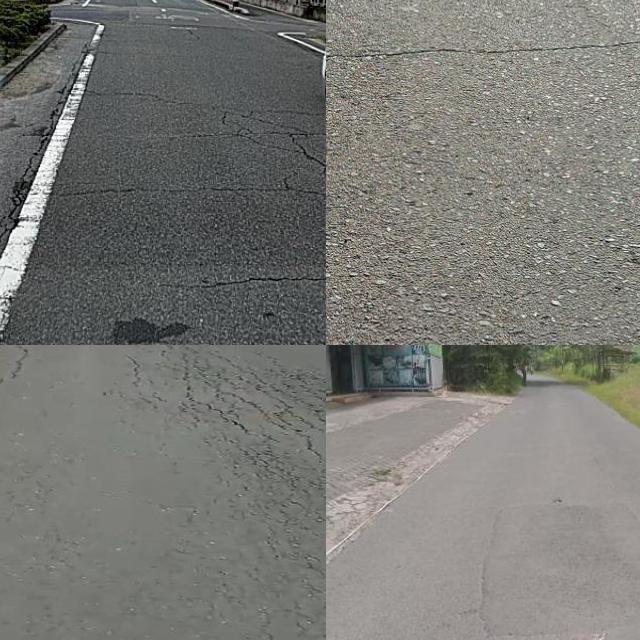Melintang: (326, 30, 640, 74), (55, 173, 326, 204), (182, 270, 326, 297)
Retak Buaya: (134, 345, 326, 467)
